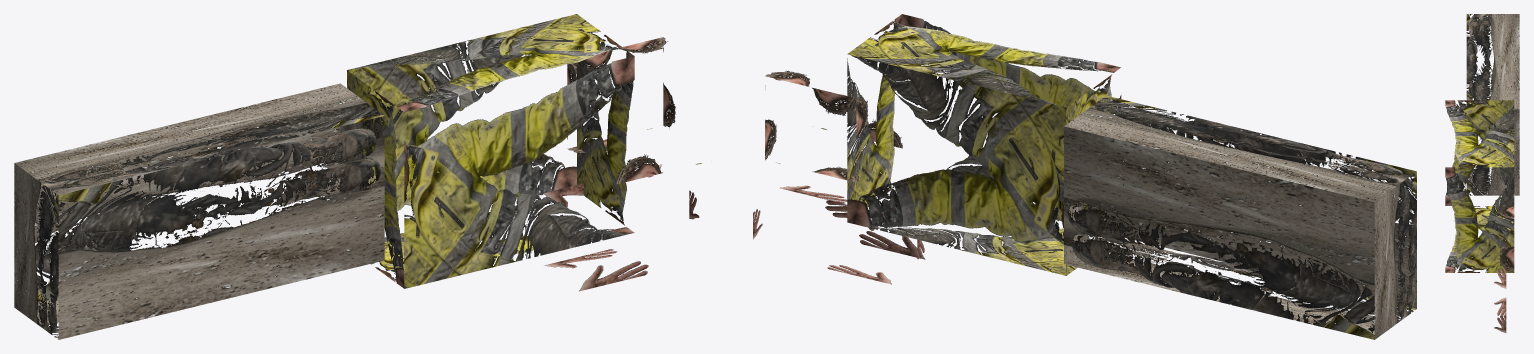
File: prone_injured.obj
The picture shows the model from 3 angles, left to right: view 1: azimuth 30°, elevation 25°; view 2: azimuth 150°, elevation 25°; view 3: azimuth 270°, elevation 25°; orthographic projection. The views are drawn at different scales.
Bounding box in the file's own units: 1.73 × 0.59 × 0.28.
1 material, 1 textured.
